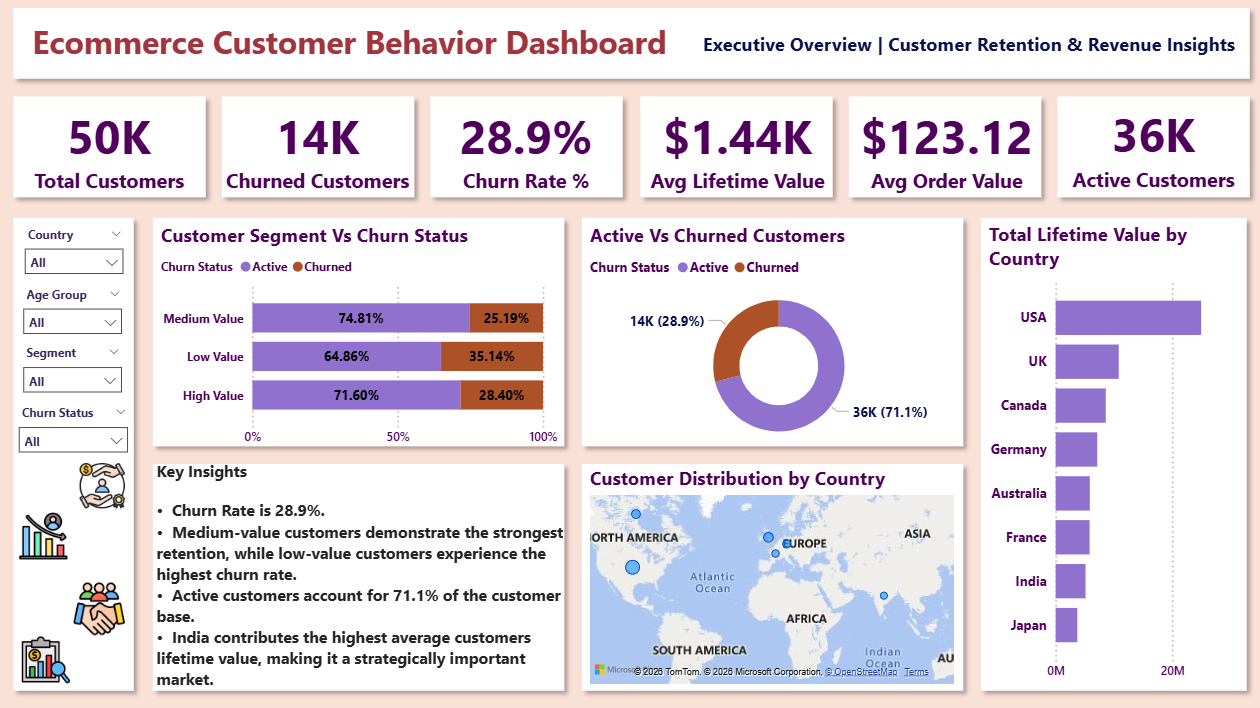

What the dashboard file says about the page in this screenshot:
{"tool":"powerbi","page":{"name":"Executive Overview ","canvas":[1280,720],"ordinal":0},"visuals":[{"type":"shape","box":[7.6,0,1265.9,89.3],"z":0},{"type":"shape","box":[850.7,89.3,212,119.6],"z":1000},{"type":"textbox","box":[16.7,15.1,678.4,60.6],"z":2000},{"type":"shape","box":[429.1,89.3,212,119.6],"z":3000},{"type":"shape","box":[639.9,89.3,212,119.6],"z":4000},{"type":"shape","box":[1061.5,89.3,212,119.6],"z":5000},{"type":"shape","box":[7.6,212,139.3,495.1],"z":6000},{"type":"shape","box":[148.4,212,433.1,248.3],"z":7000},{"type":"shape","box":[148.4,460.3,433.1,246.8],"z":8000},{"type":"shape","box":[7.6,89.3,212,119.6],"z":9000},{"type":"shape","box":[218.4,89.3,212,119.6],"z":10000},{"type":"card","fields":{"Values":["customer_behavior.Total Customer"]},"box":[16.7,96.9,192.3,106],"z":11000},{"type":"card","fields":{"Values":["customer_behavior.Churned Customers"]},"box":[221.1,96.9,204.4,106],"z":12000},{"type":"card","fields":{"Values":["customer_behavior.Churn Rate %"]},"box":[431.5,96.9,204.4,106],"z":13000},{"type":"card","fields":{"Values":["customer_behavior.Avg Lifetime Value"]},"box":[645.1,96.9,204.4,106],"z":14000},{"type":"card","fields":{"Values":["customer_behavior.Avg Order Value"]},"box":[855.5,96.9,205.9,106],"z":15000},{"type":"card","fields":{"Values":["customer_behavior.Active Customers"]},"box":[1064.2,94.7,205.3,105.8],"z":16000},{"type":"hundredPercentStackedBarChart","title":"Customer Segment  Vs  Churn Status","fields":{"Category":["customer_behavior.Customer Segment"],"Y":["customer_behavior.Total Customers"],"Series":["customer_behavior.Churn Status"]},"box":[160.5,225.6,410.3,234.7],"z":17000},{"type":"shape","box":[581.5,212,402.8,248.3],"z":18000},{"type":"shape","box":[984.2,212,286.2,495.1],"z":19000},{"type":"shape","box":[581.5,460.3,402.8,246.8],"z":20000},{"type":"barChart","title":"Total Lifetime Value by Country","fields":{"Category":["customer_behavior.Country"],"Y":["Sum(customer_behavior.Lifetime_Value)"]},"box":[996.3,224.1,266.5,472.4],"z":21000},{"type":"map","title":"Customer Distribution by Country","fields":{"Category":["customer_behavior.Country","customer_behavior.City"],"Size":["customer_behavior.Total Customers"]},"box":[593.6,470.9,377,225.6],"z":22000},{"type":"donutChart","title":"Active  Vs  Churned Customers","fields":{"Category":["customer_behavior.Churn Status"],"Y":["customer_behavior.Total Customers"]},"box":[593.6,225.6,390.7,234.7],"z":23000},{"type":"textbox","box":[699.6,27.3,563.3,36.3],"z":24000},{"type":"textbox","box":[156,460.3,420.9,246.8],"z":25000},{"type":"slicer","fields":{"Values":["customer_behavior.Country"]},"box":[18.2,224.1,119.6,60.6],"z":26000},{"type":"slicer","fields":{"Values":["customer_behavior.Age Group"]},"box":[16.7,284.7,119.6,60.6],"z":27000},{"type":"slicer","fields":{"Values":["customer_behavior.Customer Segment"]},"box":[16.3,343.3,119,61.4],"z":28000},{"type":"slicer","fields":{"Values":["customer_behavior.Churn Status"]},"box":[12.1,404.3,130.2,66.6],"z":29000},{"type":"image","box":[77.2,460.3,57.5,62.1],"z":30000},{"type":"image","box":[71.2,583,63.6,65.1],"z":31000},{"type":"image","box":[15.1,511.8,63.6,60.6],"z":32000},{"type":"image","box":[19.7,637.5,59.1,59.1],"z":33000}]}

Visuals, with their boxes in screenshot pixels (x1, y1, x2, y2), scaled from the page's 1280x720 canvas onto the 1260x708 screenshot:
shape: rect(7, 0, 1254, 88)
shape: rect(837, 88, 1046, 205)
textbox: rect(16, 15, 684, 74)
shape: rect(422, 88, 631, 205)
shape: rect(630, 88, 839, 205)
shape: rect(1045, 88, 1254, 205)
shape: rect(7, 208, 145, 695)
shape: rect(146, 208, 572, 453)
shape: rect(146, 453, 572, 695)
shape: rect(7, 88, 216, 205)
shape: rect(215, 88, 424, 205)
card - customer_behavior.Total Customer: rect(16, 95, 206, 200)
card - customer_behavior.Churned Customers: rect(218, 95, 419, 200)
card - customer_behavior.Churn Rate %: rect(425, 95, 626, 200)
card - customer_behavior.Avg Lifetime Value: rect(635, 95, 836, 200)
card - customer_behavior.Avg Order Value: rect(842, 95, 1045, 200)
card - customer_behavior.Active Customers: rect(1048, 93, 1250, 197)
"Customer Segment  Vs  Churn Status" hundredPercentStackedBarChart: rect(158, 222, 562, 453)
shape: rect(572, 208, 969, 453)
shape: rect(969, 208, 1251, 695)
shape: rect(572, 453, 969, 695)
"Total Lifetime Value by Country" barChart: rect(981, 220, 1243, 685)
"Customer Distribution by Country" map: rect(584, 463, 955, 685)
"Active  Vs  Churned Customers" donutChart: rect(584, 222, 969, 453)
textbox: rect(689, 27, 1243, 63)
textbox: rect(154, 453, 568, 695)
slicer - customer_behavior.Country: rect(18, 220, 136, 280)
slicer - customer_behavior.Age Group: rect(16, 280, 134, 340)
slicer - customer_behavior.Customer Segment: rect(16, 338, 133, 398)
slicer - customer_behavior.Churn Status: rect(12, 398, 140, 463)
image: rect(76, 453, 133, 514)
image: rect(70, 573, 133, 637)
image: rect(15, 503, 77, 563)
image: rect(19, 627, 78, 685)
